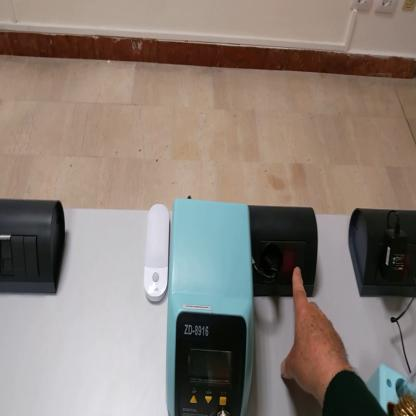hand: (282, 265, 349, 396)
socket: (247, 206, 321, 300), (349, 206, 416, 298)
welder base: (368, 363, 416, 416)
welder station: (165, 196, 257, 416)
